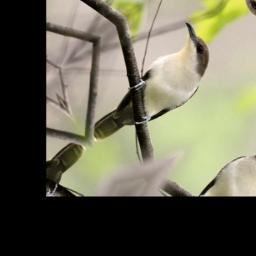Cuckoo: (72, 18, 226, 163)
